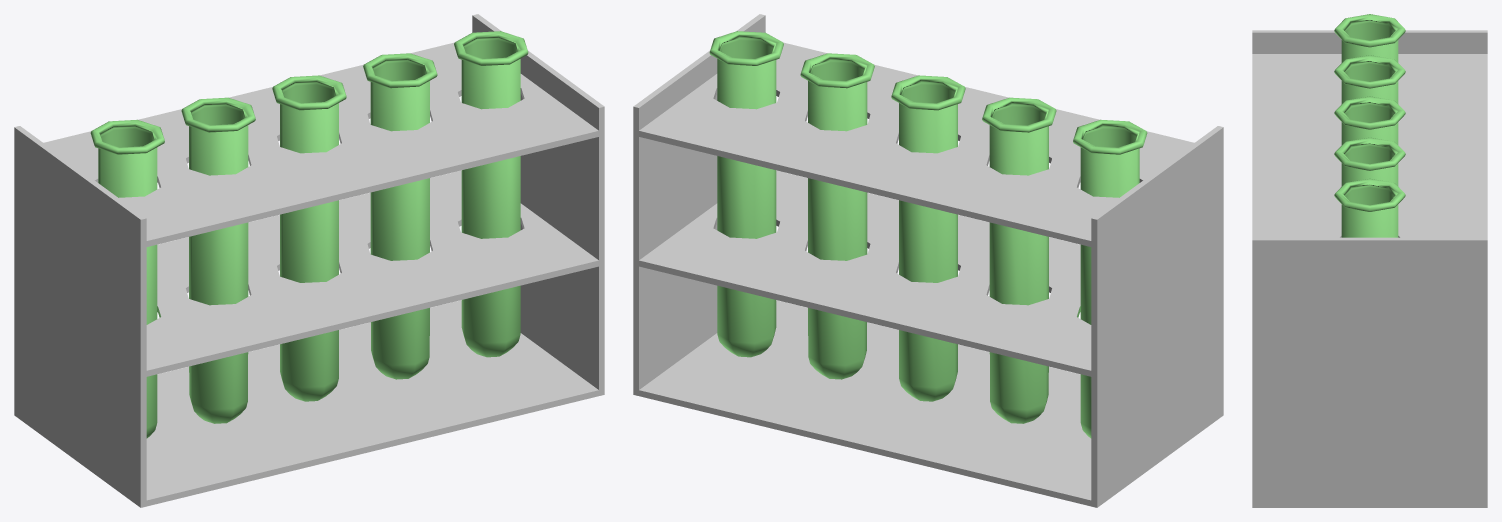
Rendered from Test_Tubes.fbx.
The picture shows the model from 3 angles, left to right: view 1: azimuth 30°, elevation 25°; view 2: azimuth 150°, elevation 25°; view 3: azimuth 270°, elevation 25°; orthographic projection. The views are drawn at different scales.
Parts seen in each view (by area): view 1: Support; view 2: Support; view 3: Support.
Boxes of the visible parts, box(x1,y1,x2,y2) form: Support: box(14, 14, 604, 507); Support: box(633, 14, 1223, 507); Support: box(1252, 14, 1487, 507).
Bounding box in the file's own units: 652 × 423 × 308.
